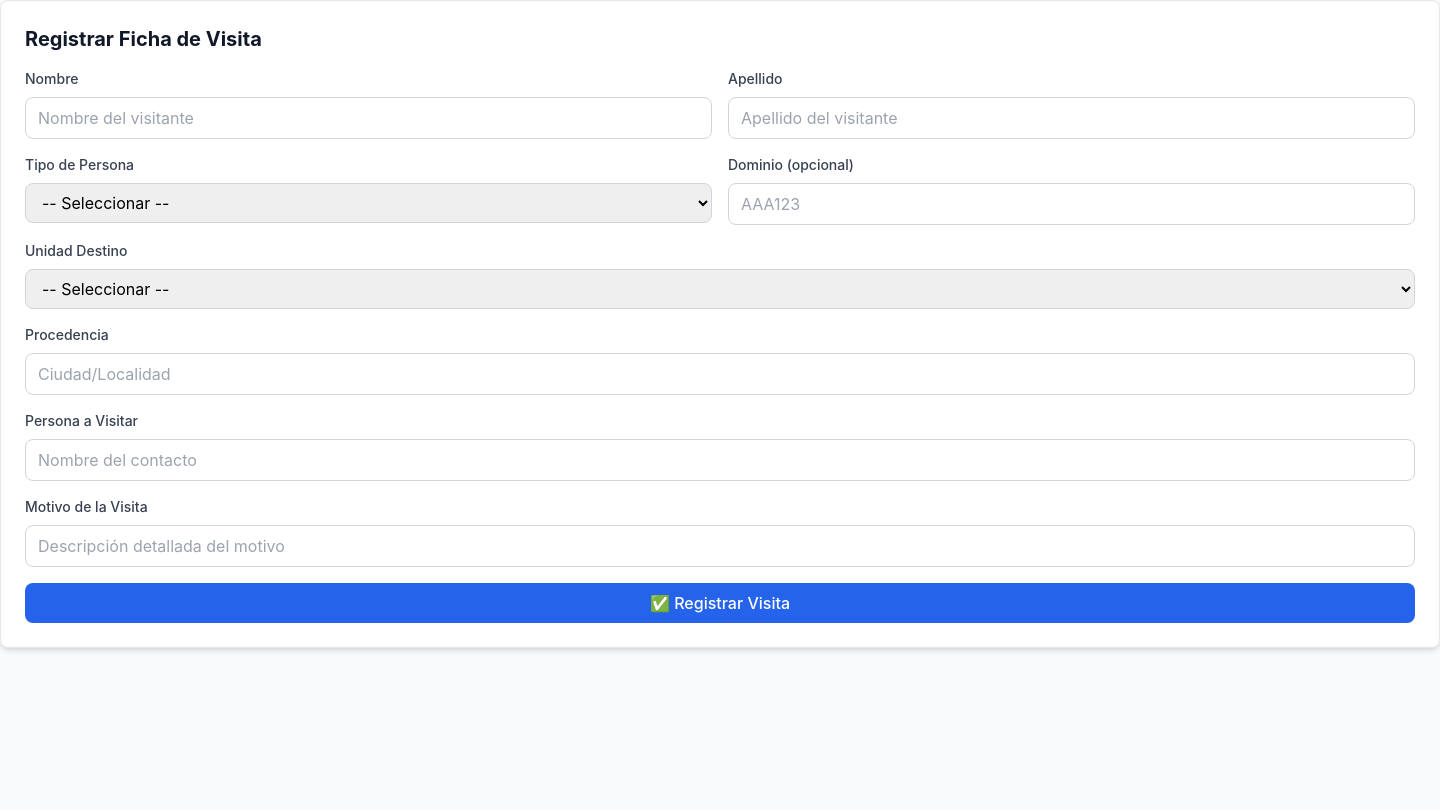
FormVisita › debería mostrar errores de validación con campos vacíos
This screenshot has width=1440, height=810.
Click the button "✅ Registrar Visita" at point(720, 603), box [25,583,1415,623]
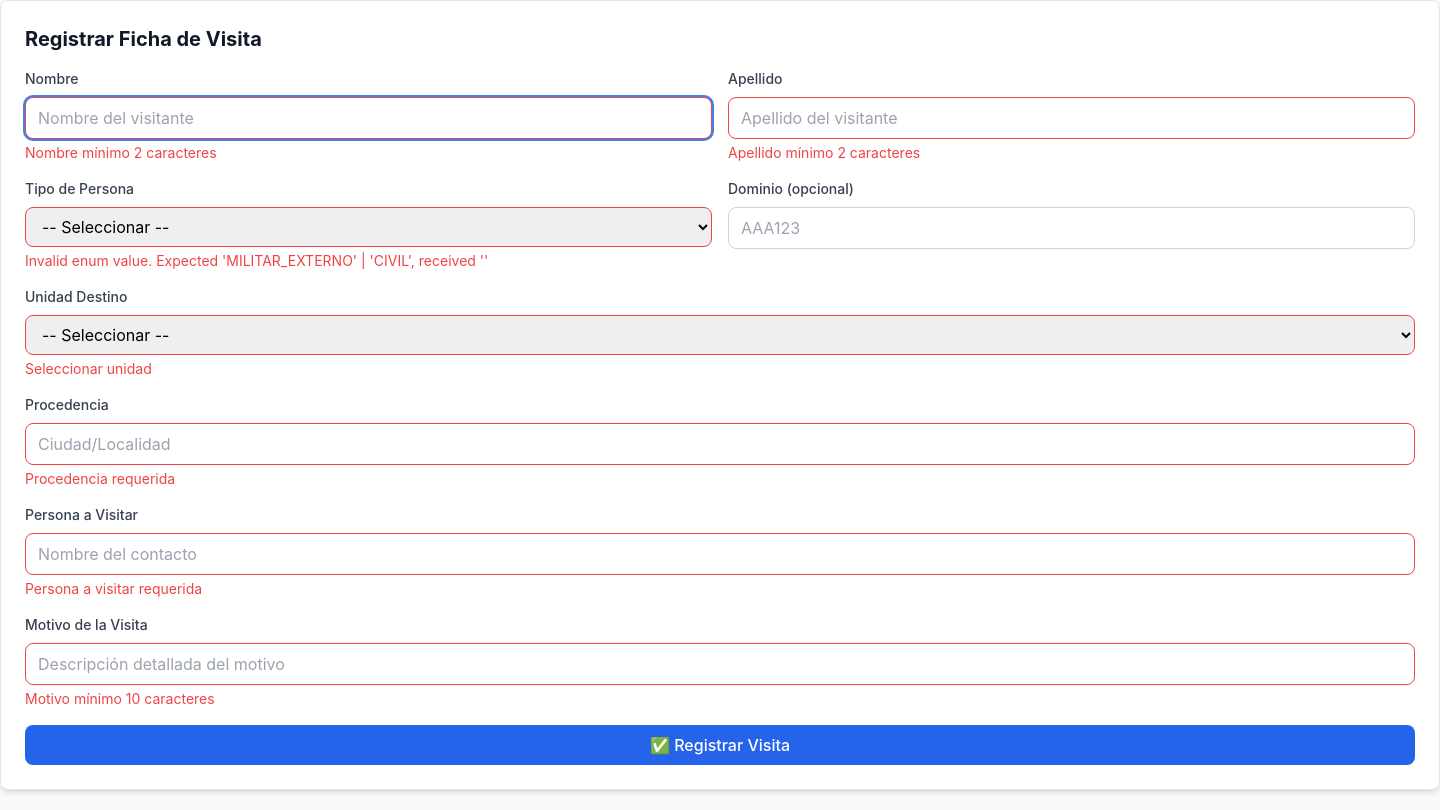
Now the text "Nombre mínimo 2 caracteres" is shown, box [25,144,217,161]
Now the text "Procedencia requerida" is shown, box [25,470,175,487]
